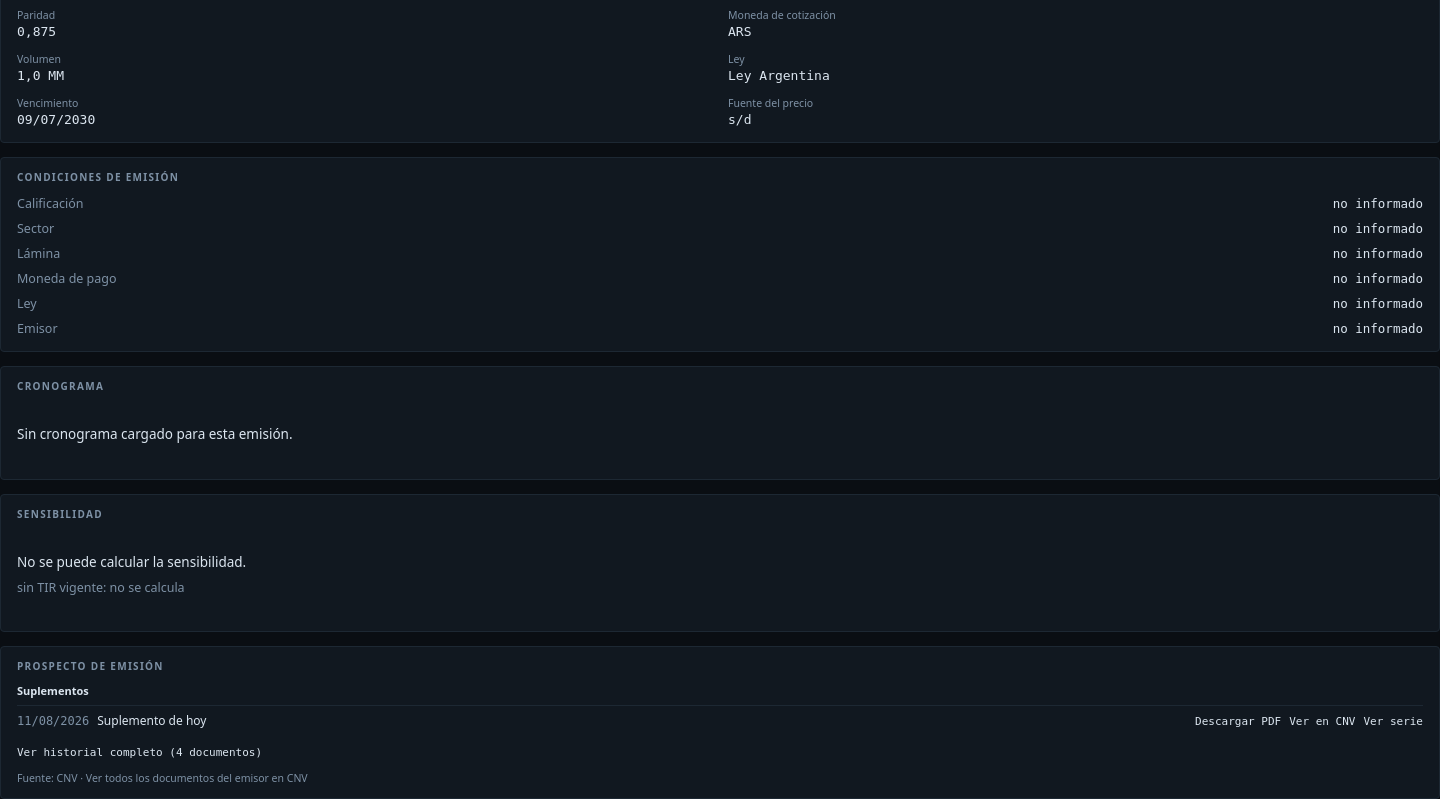
it: prospecto de emisión › esconde los grupos administrativos hasta que se pide el historial completo
(page scrolled)
Expected: the text "Suplemento de hoy" is shown, [97,712,206,729]
Expected: the text "Un aviso de pago" is not shown
Click the button "Ver historial completo (4 documentos)" at (140, 753), box [17,745,262,760]
(page scrolled)
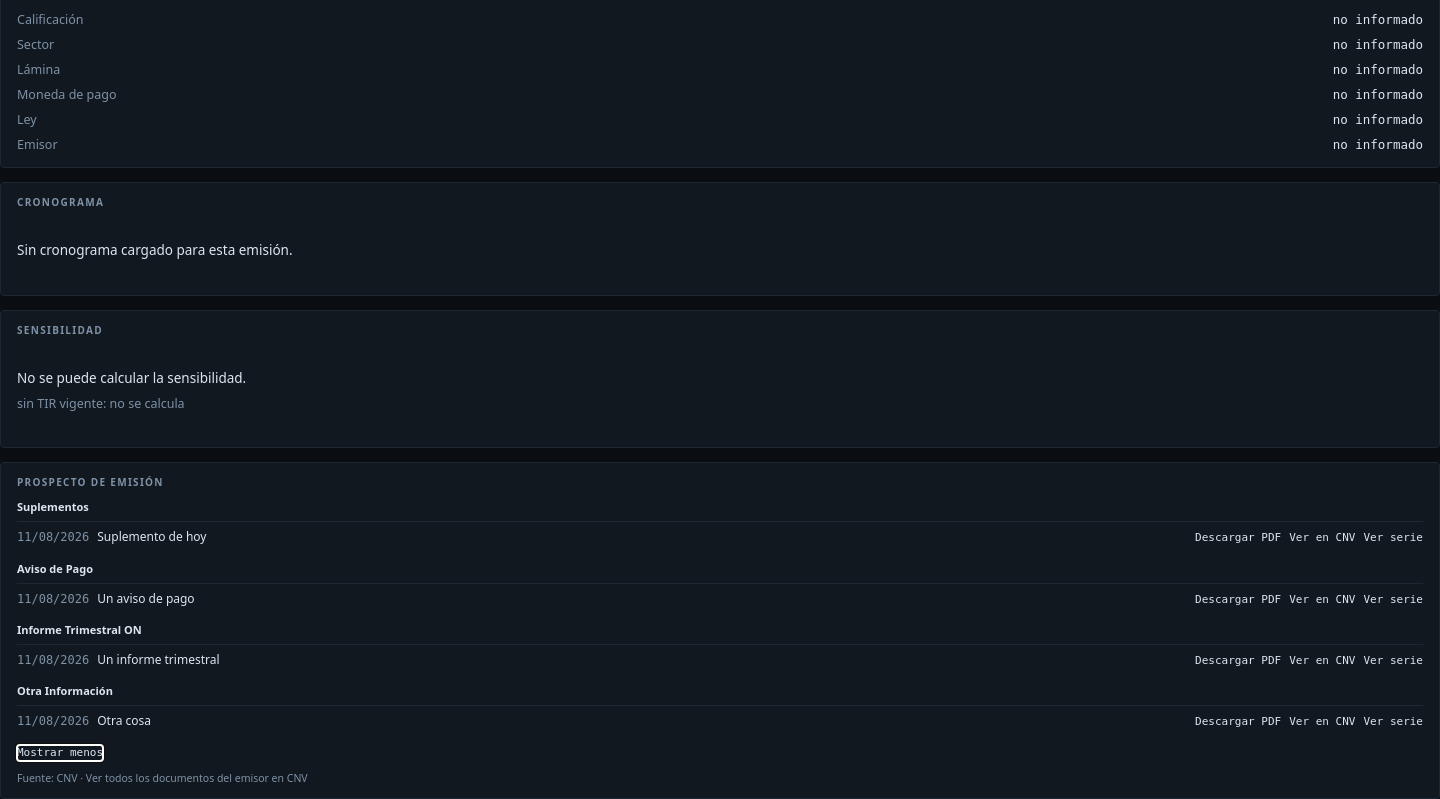
Expected: the text "Un aviso de pago" is shown, [97,590,195,606]
Expected: the text "Un informe trimestral" is shown, [97,651,220,668]
Expected: the text "Otra cosa" is shown, [97,712,151,729]
